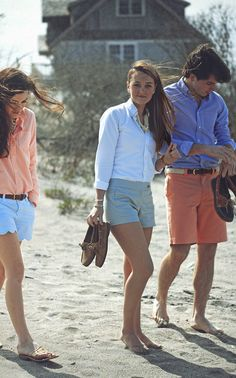Person: (87, 59, 174, 355), (165, 44, 236, 335), (1, 66, 61, 363)
